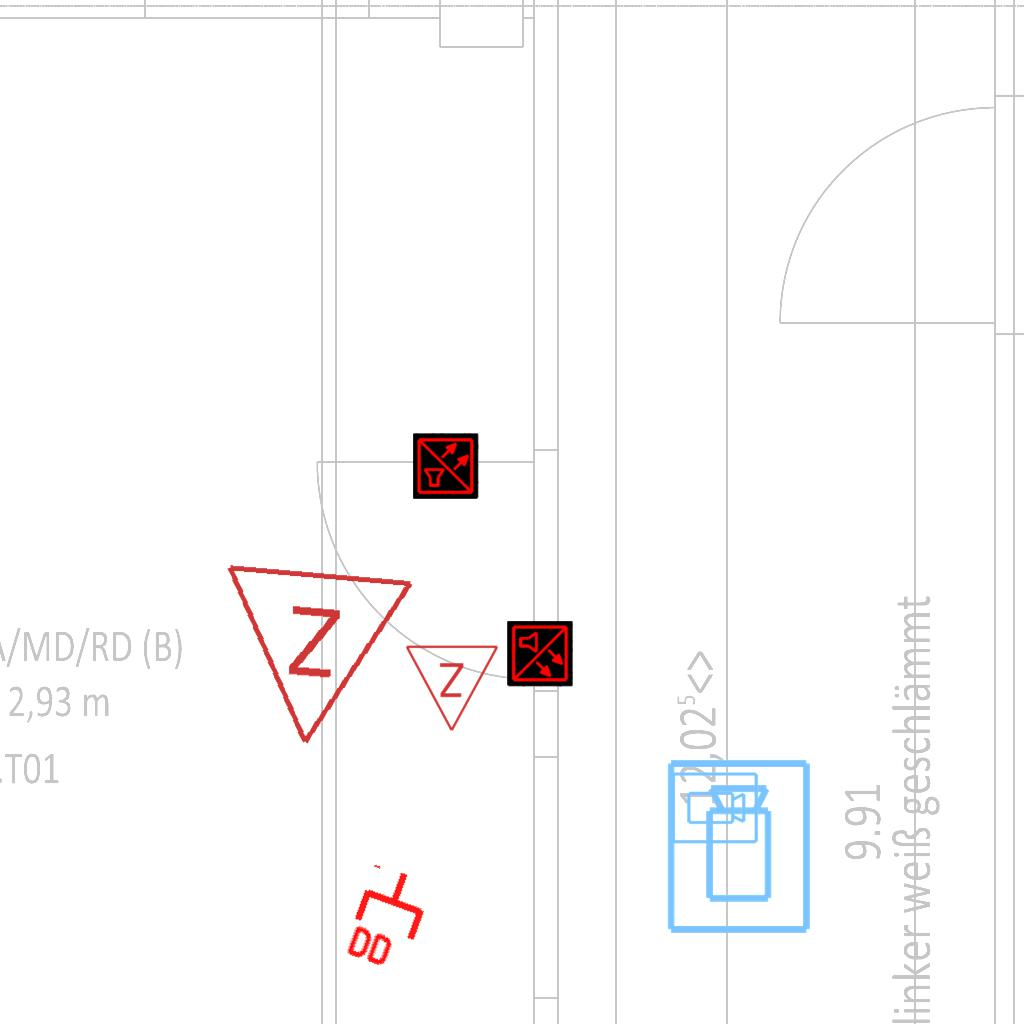Datenanschluss_zweifach: (339, 859, 440, 980)
KFO_Kamera_mit_Festobjektiv: (663, 756, 817, 938), (669, 770, 760, 847)
OKW_Multisensormelder_(Kombination_optischer_Rauch-Kahlenmonoxid_Waerme-Melder): (507, 621, 573, 687), (413, 433, 479, 499)
Zimmersignalleuchte: (208, 549, 422, 767), (404, 638, 502, 738)
